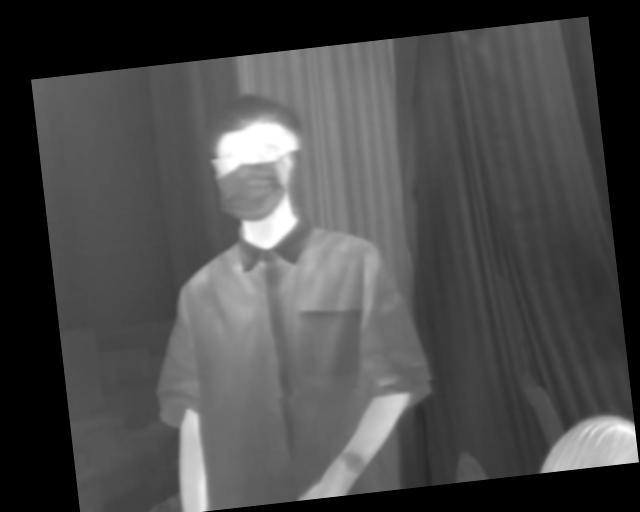face: (201, 87, 313, 225)
